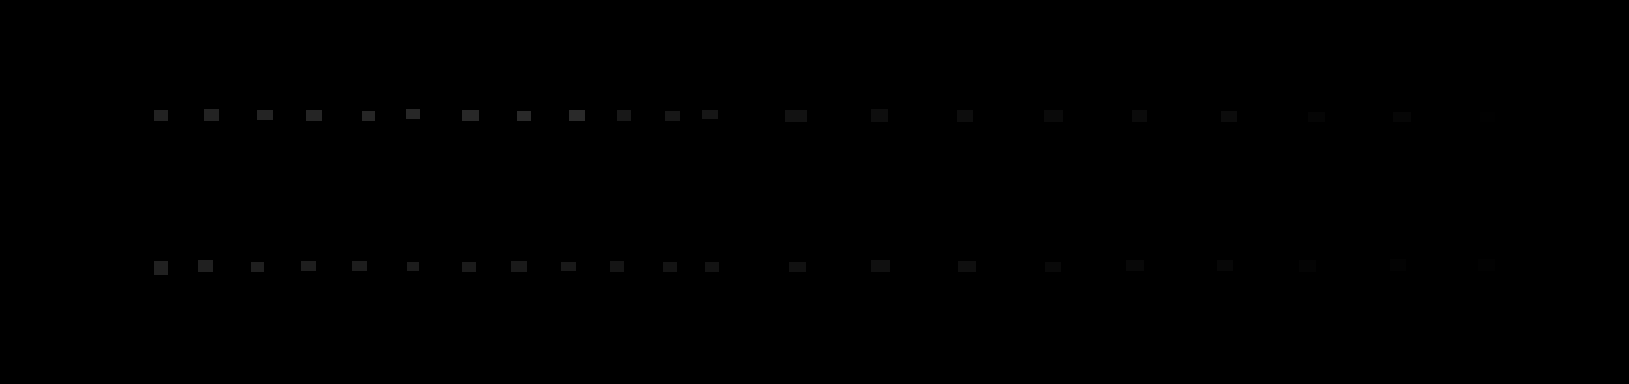light: (785, 110, 807, 122), (871, 109, 888, 122), (1044, 110, 1063, 122), (871, 260, 890, 272), (154, 260, 168, 275), (957, 110, 973, 122), (1299, 260, 1316, 272), (958, 260, 976, 272), (204, 109, 219, 121), (1478, 259, 1495, 271), (1221, 111, 1237, 122), (462, 110, 479, 121), (1393, 112, 1411, 122), (1126, 260, 1144, 271), (789, 262, 806, 272), (1132, 110, 1147, 122), (1390, 259, 1406, 271), (511, 260, 527, 272), (306, 110, 322, 121), (569, 110, 585, 121), (1308, 112, 1325, 122), (1217, 260, 1233, 271), (257, 110, 273, 120), (610, 260, 624, 272), (198, 260, 213, 272), (154, 110, 168, 121), (1045, 262, 1061, 272), (665, 111, 680, 121), (617, 110, 631, 121), (1480, 112, 1495, 122), (663, 262, 677, 272), (352, 260, 367, 271), (301, 260, 316, 271), (702, 110, 718, 119), (705, 262, 719, 272), (462, 262, 476, 272), (362, 111, 375, 121), (406, 109, 420, 119), (517, 111, 531, 121), (561, 262, 576, 271), (251, 262, 264, 272), (407, 262, 419, 271)
